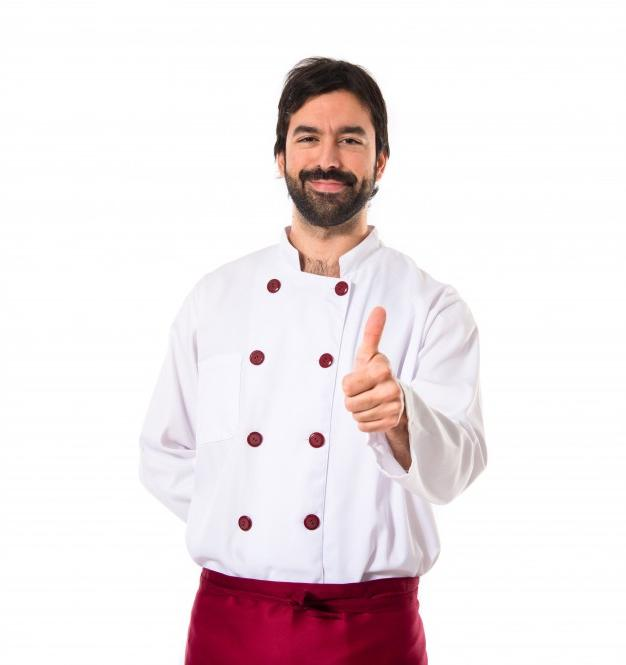thumbsup: (340, 307, 404, 433)
